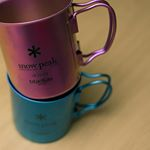cups: (1, 2, 121, 101), (4, 66, 115, 145)
